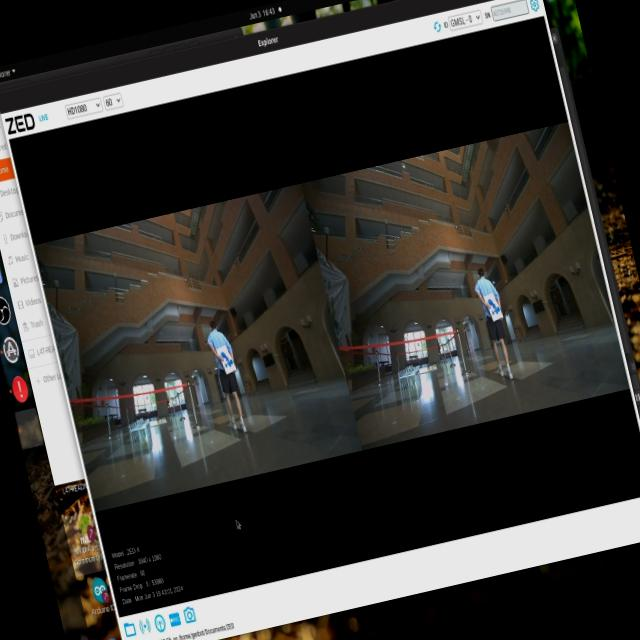blue: (216, 344, 247, 382), (481, 290, 502, 324)
